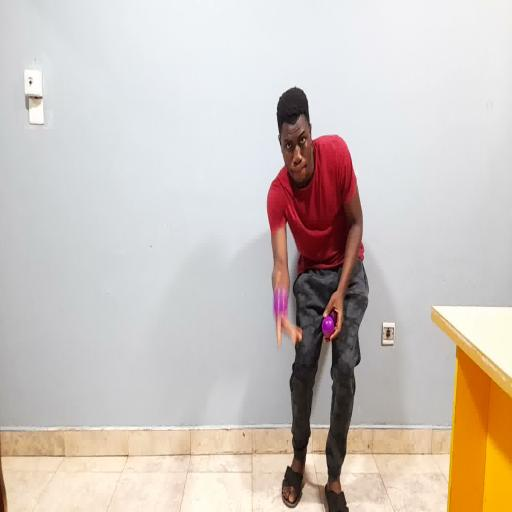plastic-ball: (274, 284, 288, 316)
